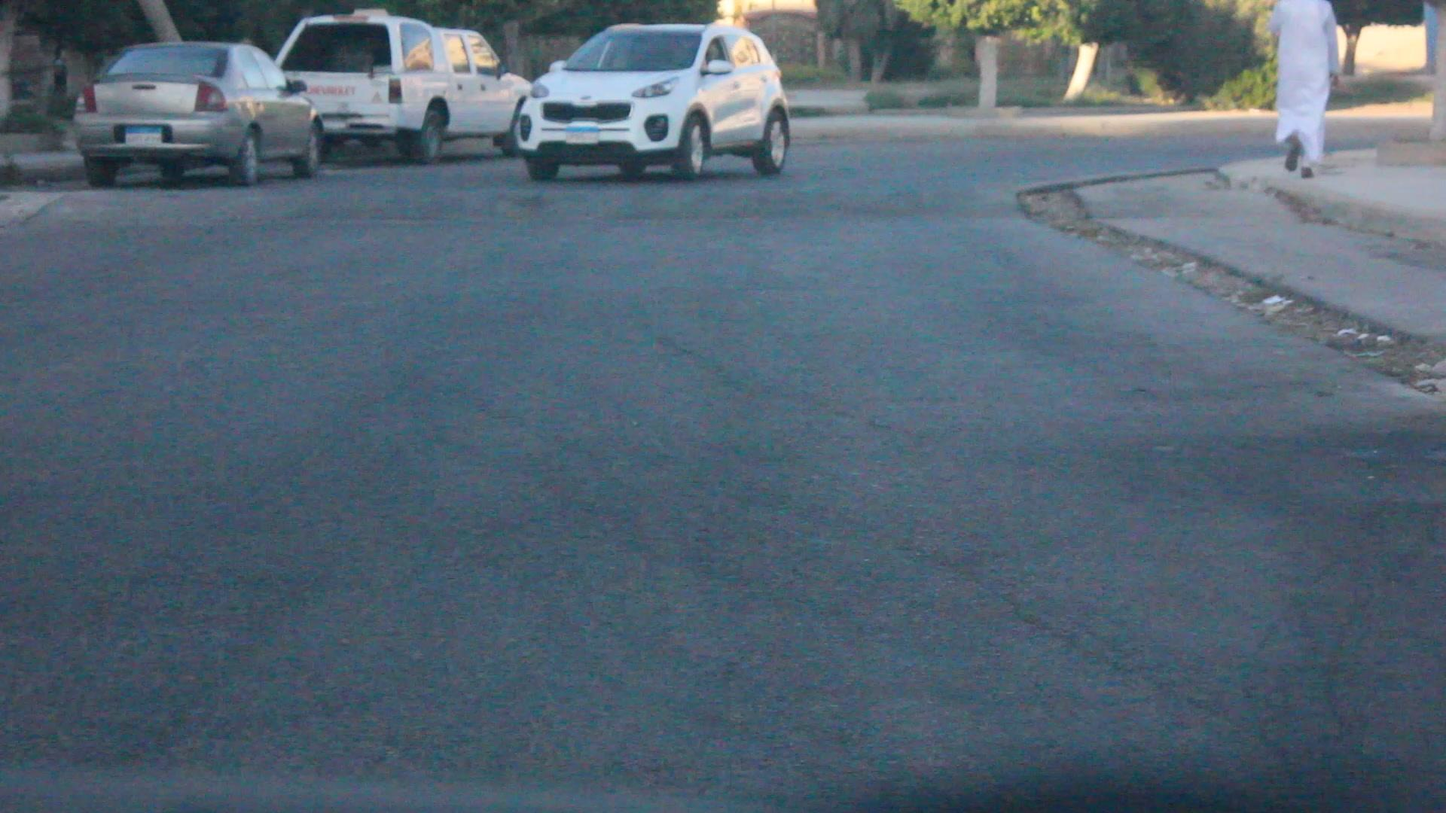Bump: (23, 186, 1038, 225)
